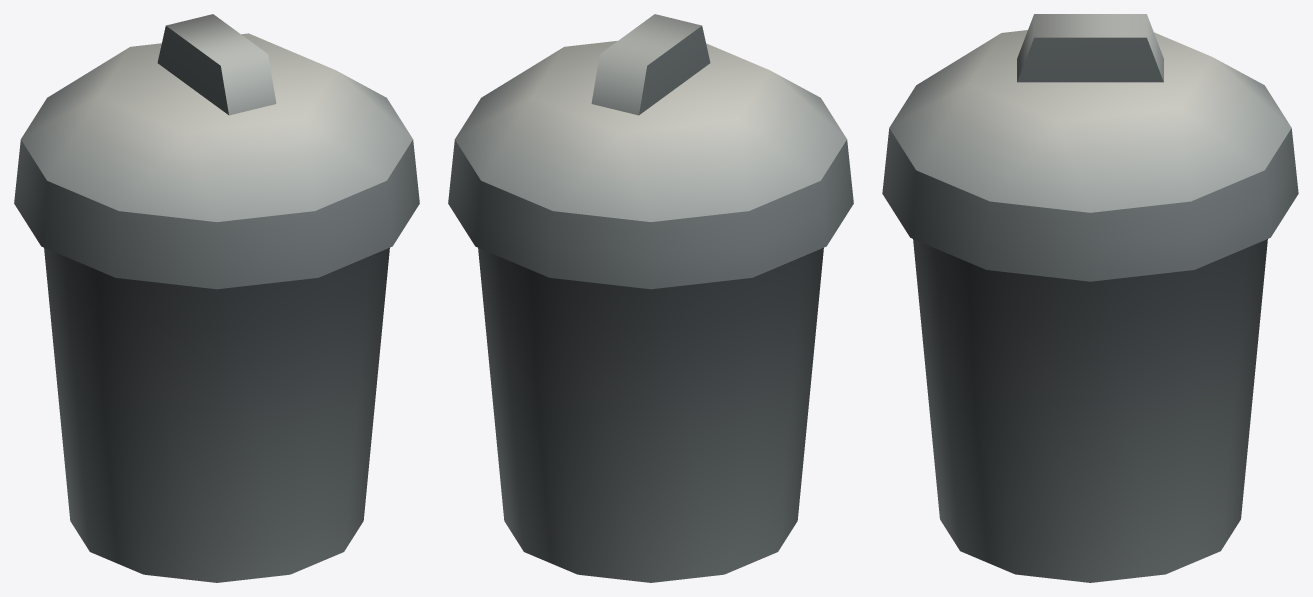
Rendered from Trash_Can_1A.fbx.
3 renders of one model, left to right at view 1: azimuth 30°, elevation 25°; view 2: azimuth 150°, elevation 25°; view 3: azimuth 270°, elevation 25°, orthographic. The views are drawn at different scales.
Visible parts, largest first — view 1: Trash_Can_1A; view 2: Trash_Can_1A; view 3: Trash_Can_1A.
Part boxes in pixels (left/top/right/bottom): Trash_Can_1A: left=14, top=14, right=419, bottom=582; Trash_Can_1A: left=448, top=14, right=853, bottom=582; Trash_Can_1A: left=882, top=14, right=1298, bottom=582.
Bounding box in the file's own units: 106 × 139 × 106.
